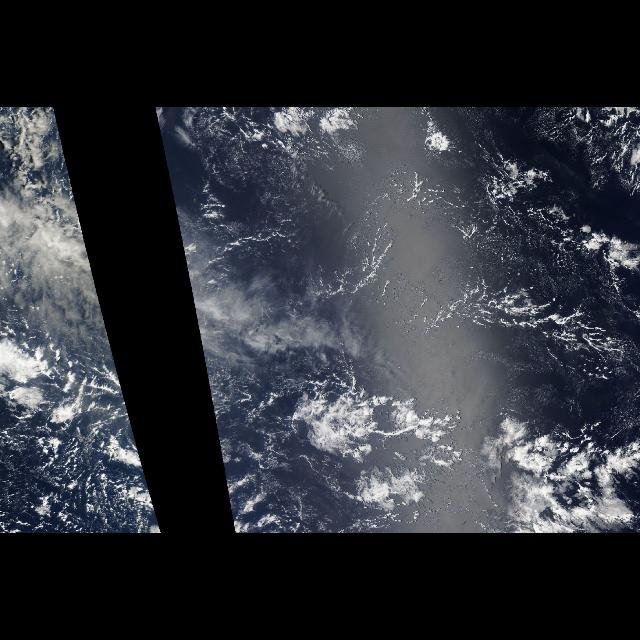Gravel: (11, 379, 144, 528)
